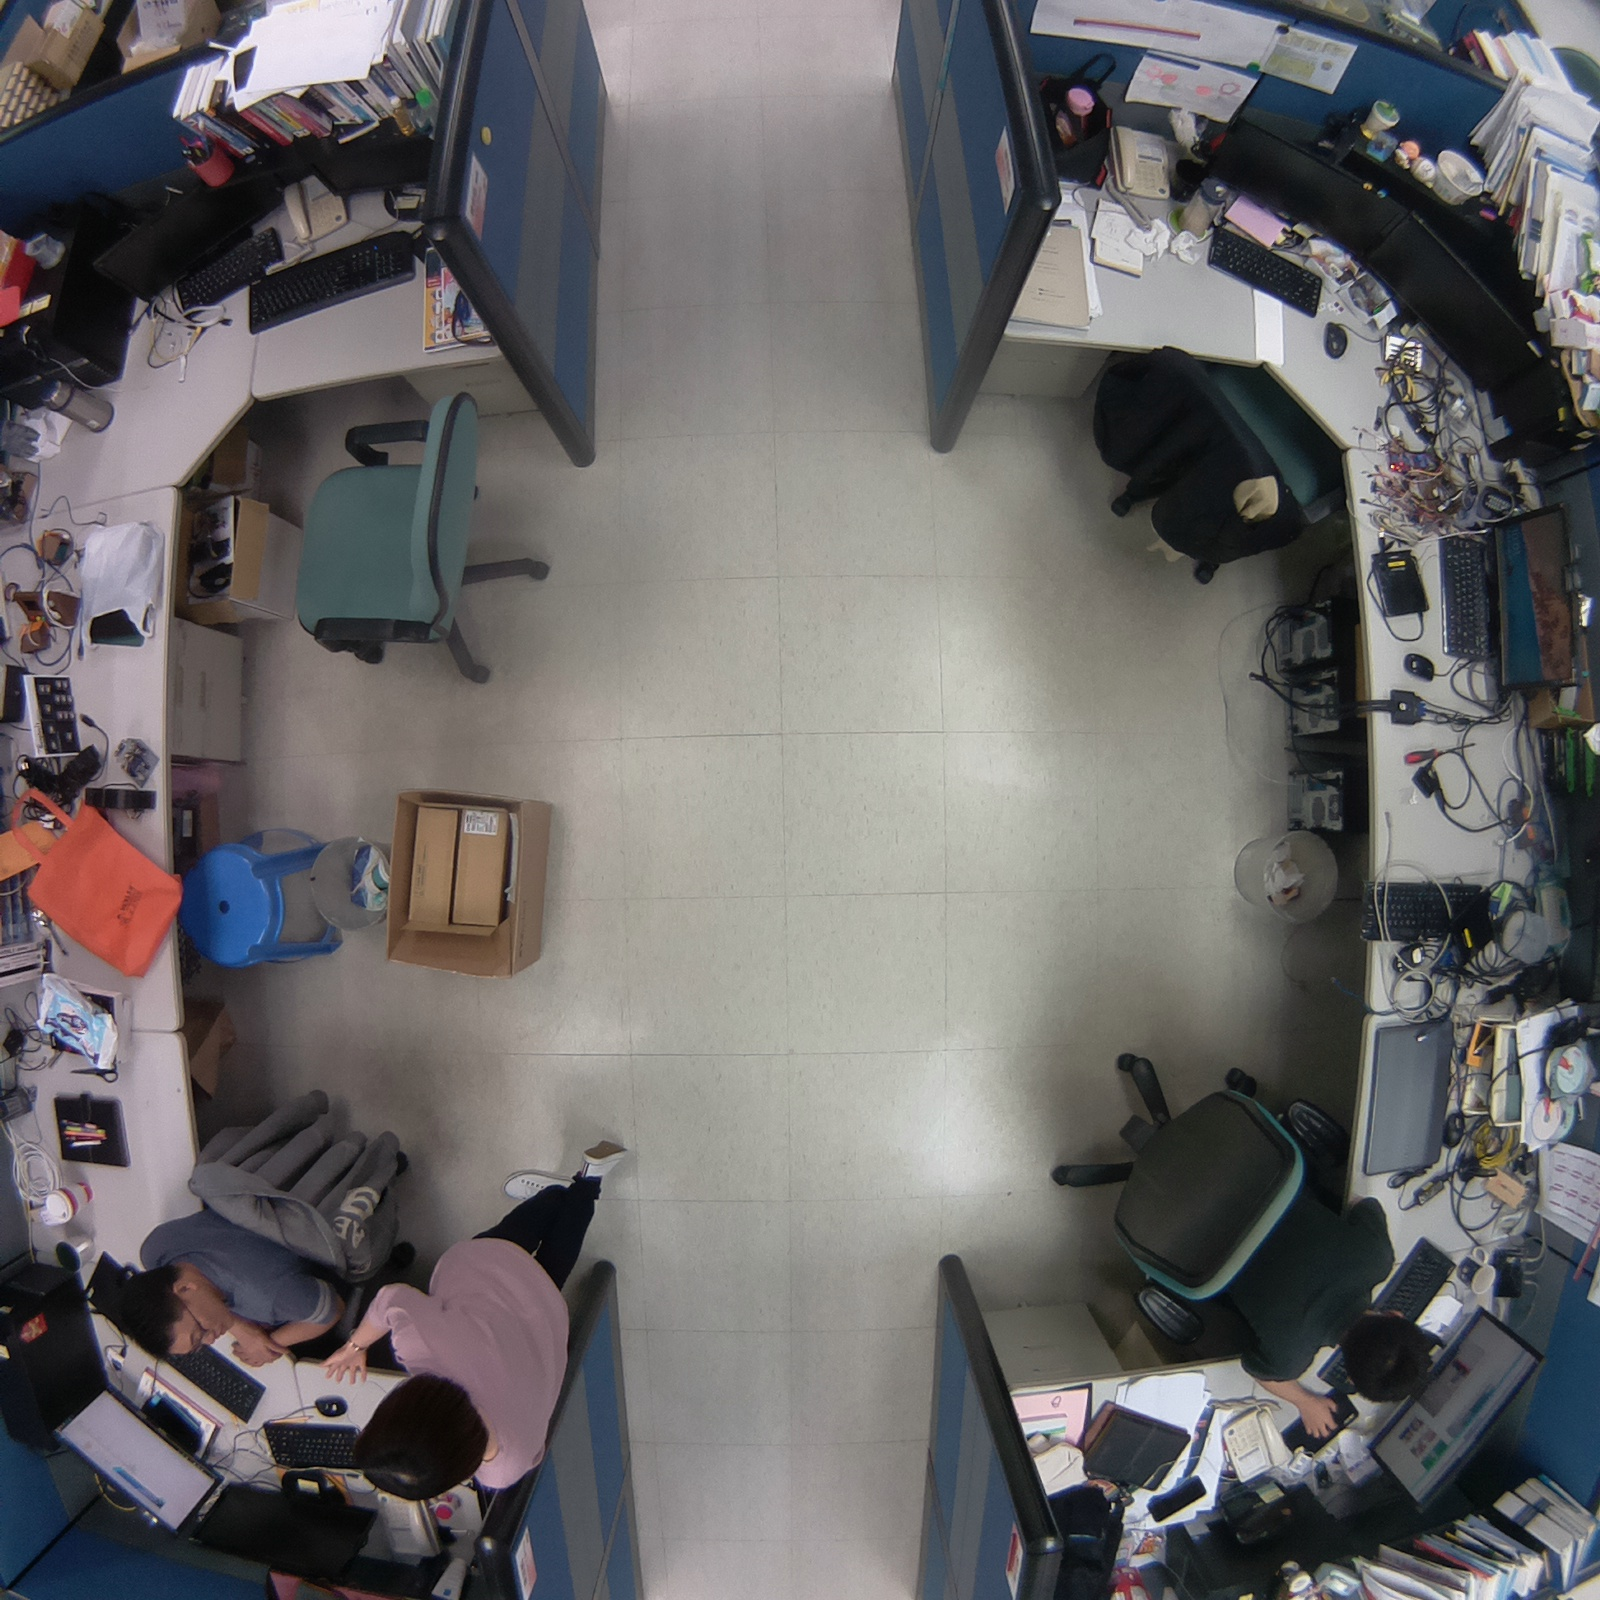chair: (270, 373, 578, 704), (1078, 319, 1350, 604)
head: (341, 1365, 501, 1508), (103, 1255, 237, 1369), (1333, 1304, 1441, 1416)
sitting: (1035, 1032, 1450, 1454), (111, 1065, 419, 1380)
standing: (316, 1126, 642, 1518)
